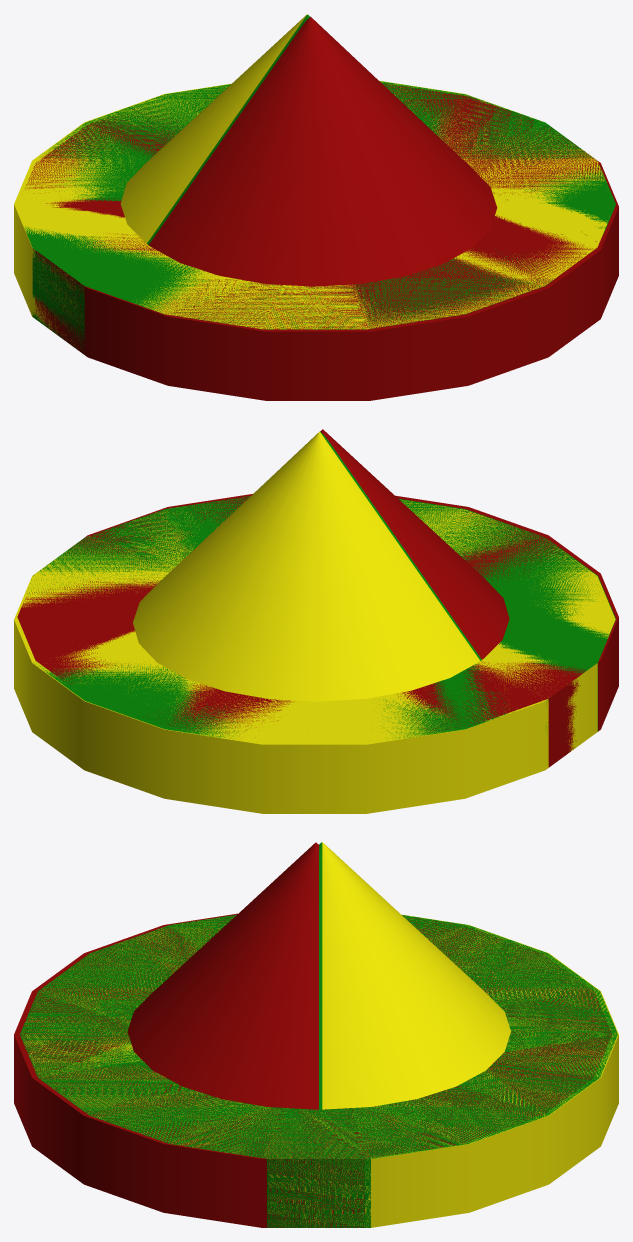
Rendered from KeyboardLight.FBX.
3 renders of one model, top to bottom at view 1: azimuth 30°, elevation 25°; view 2: azimuth 150°, elevation 25°; view 3: azimuth 270°, elevation 25°, orthographic.
Visible parts, largest first — view 1: red1, red2, green1, yellow1, yellow2, green2; view 2: yellow1, yellow2, green1, red1, red2, green2; view 3: green1, red1, yellow1, red2, yellow2, green2.
Boxes of the visible parts, bbox=[...] form: red1: bbox=[24, 83, 618, 400]; red2: bbox=[149, 16, 497, 286]; green1: bbox=[24, 81, 615, 353]; yellow1: bbox=[14, 80, 609, 349]; yellow2: bbox=[120, 14, 307, 243]; green2: bbox=[147, 14, 309, 244]; yellow1: bbox=[14, 499, 615, 813]; yellow2: bbox=[133, 431, 480, 701]; green1: bbox=[27, 496, 615, 739]; red1: bbox=[17, 494, 618, 767]; red2: bbox=[320, 429, 509, 659]; green2: bbox=[320, 431, 481, 660]; green1: bbox=[20, 914, 617, 1227]; red1: bbox=[14, 913, 611, 1227]; yellow1: bbox=[21, 914, 618, 1227]; red2: bbox=[127, 842, 318, 1109]; yellow2: bbox=[322, 842, 510, 1109]; green2: bbox=[319, 842, 322, 1109].
Size of the model in its own units: 11.49 by 5.56 by 11.8.
